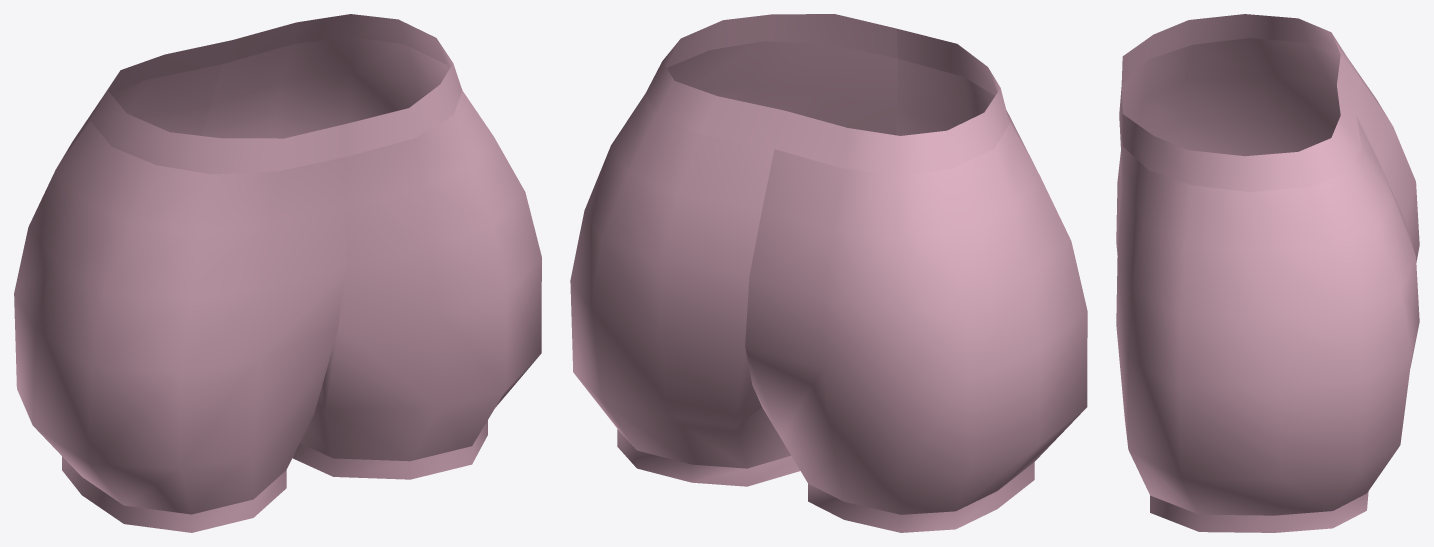
Rendered from bubble_short.glb.
3 views of the same model, side by side, from view 1: azimuth 30°, elevation 25°; view 2: azimuth 150°, elevation 25°; view 3: azimuth 270°, elevation 25° (orthographic). The views are drawn at different scales.
Parts seen in each view (by area): view 1: bubble_short; view 2: bubble_short; view 3: bubble_short.
Boxes of the visible parts, x1,y1,x2,y2 form: bubble_short: [14, 14, 541, 532]; bubble_short: [570, 14, 1087, 532]; bubble_short: [1116, 14, 1419, 532].
Bounding box in the file's own units: 0.3718 × 0.2995 × 0.2262.
